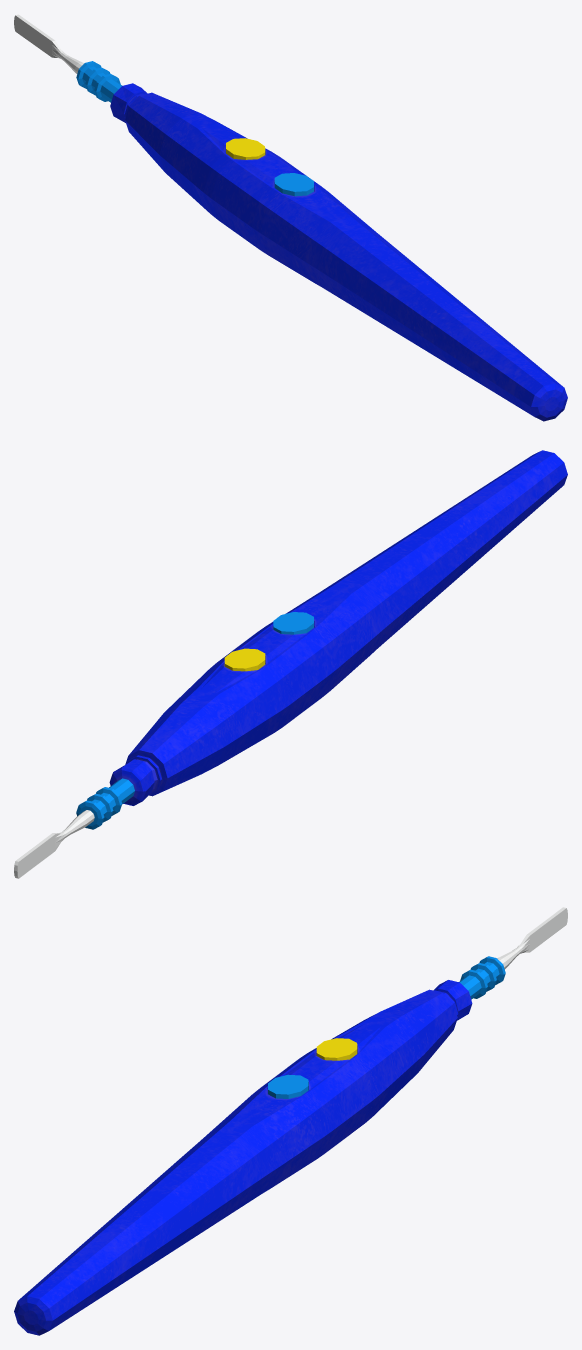
File: Cauterizer.obj
The picture shows the model from 3 angles, top to bottom: view 1: azimuth 30°, elevation 25°; view 2: azimuth 150°, elevation 25°; view 3: azimuth 330°, elevation 25°; orthographic projection. The views are drawn at different scales.
Visible parts, largest first — view 1: Cauterizer; view 2: Cauterizer; view 3: Cauterizer.
Part boxes in pixels (box(x1,y1,x2,y2)): Cauterizer: box(14, 14, 567, 421); Cauterizer: box(14, 450, 567, 878); Cauterizer: box(14, 907, 567, 1335).
Size of the model in its own units: 0.026 by 0.0244 by 0.3027.
Materials: 1 (1 with a texture image).
